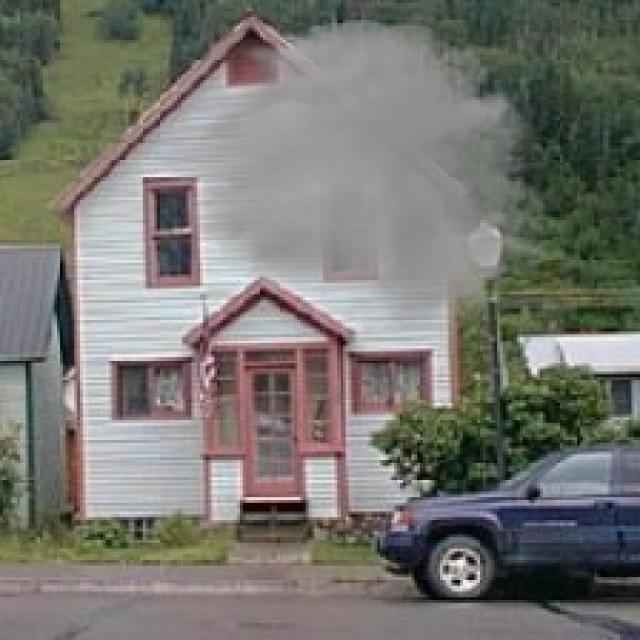smoke: (140, 11, 566, 360)
